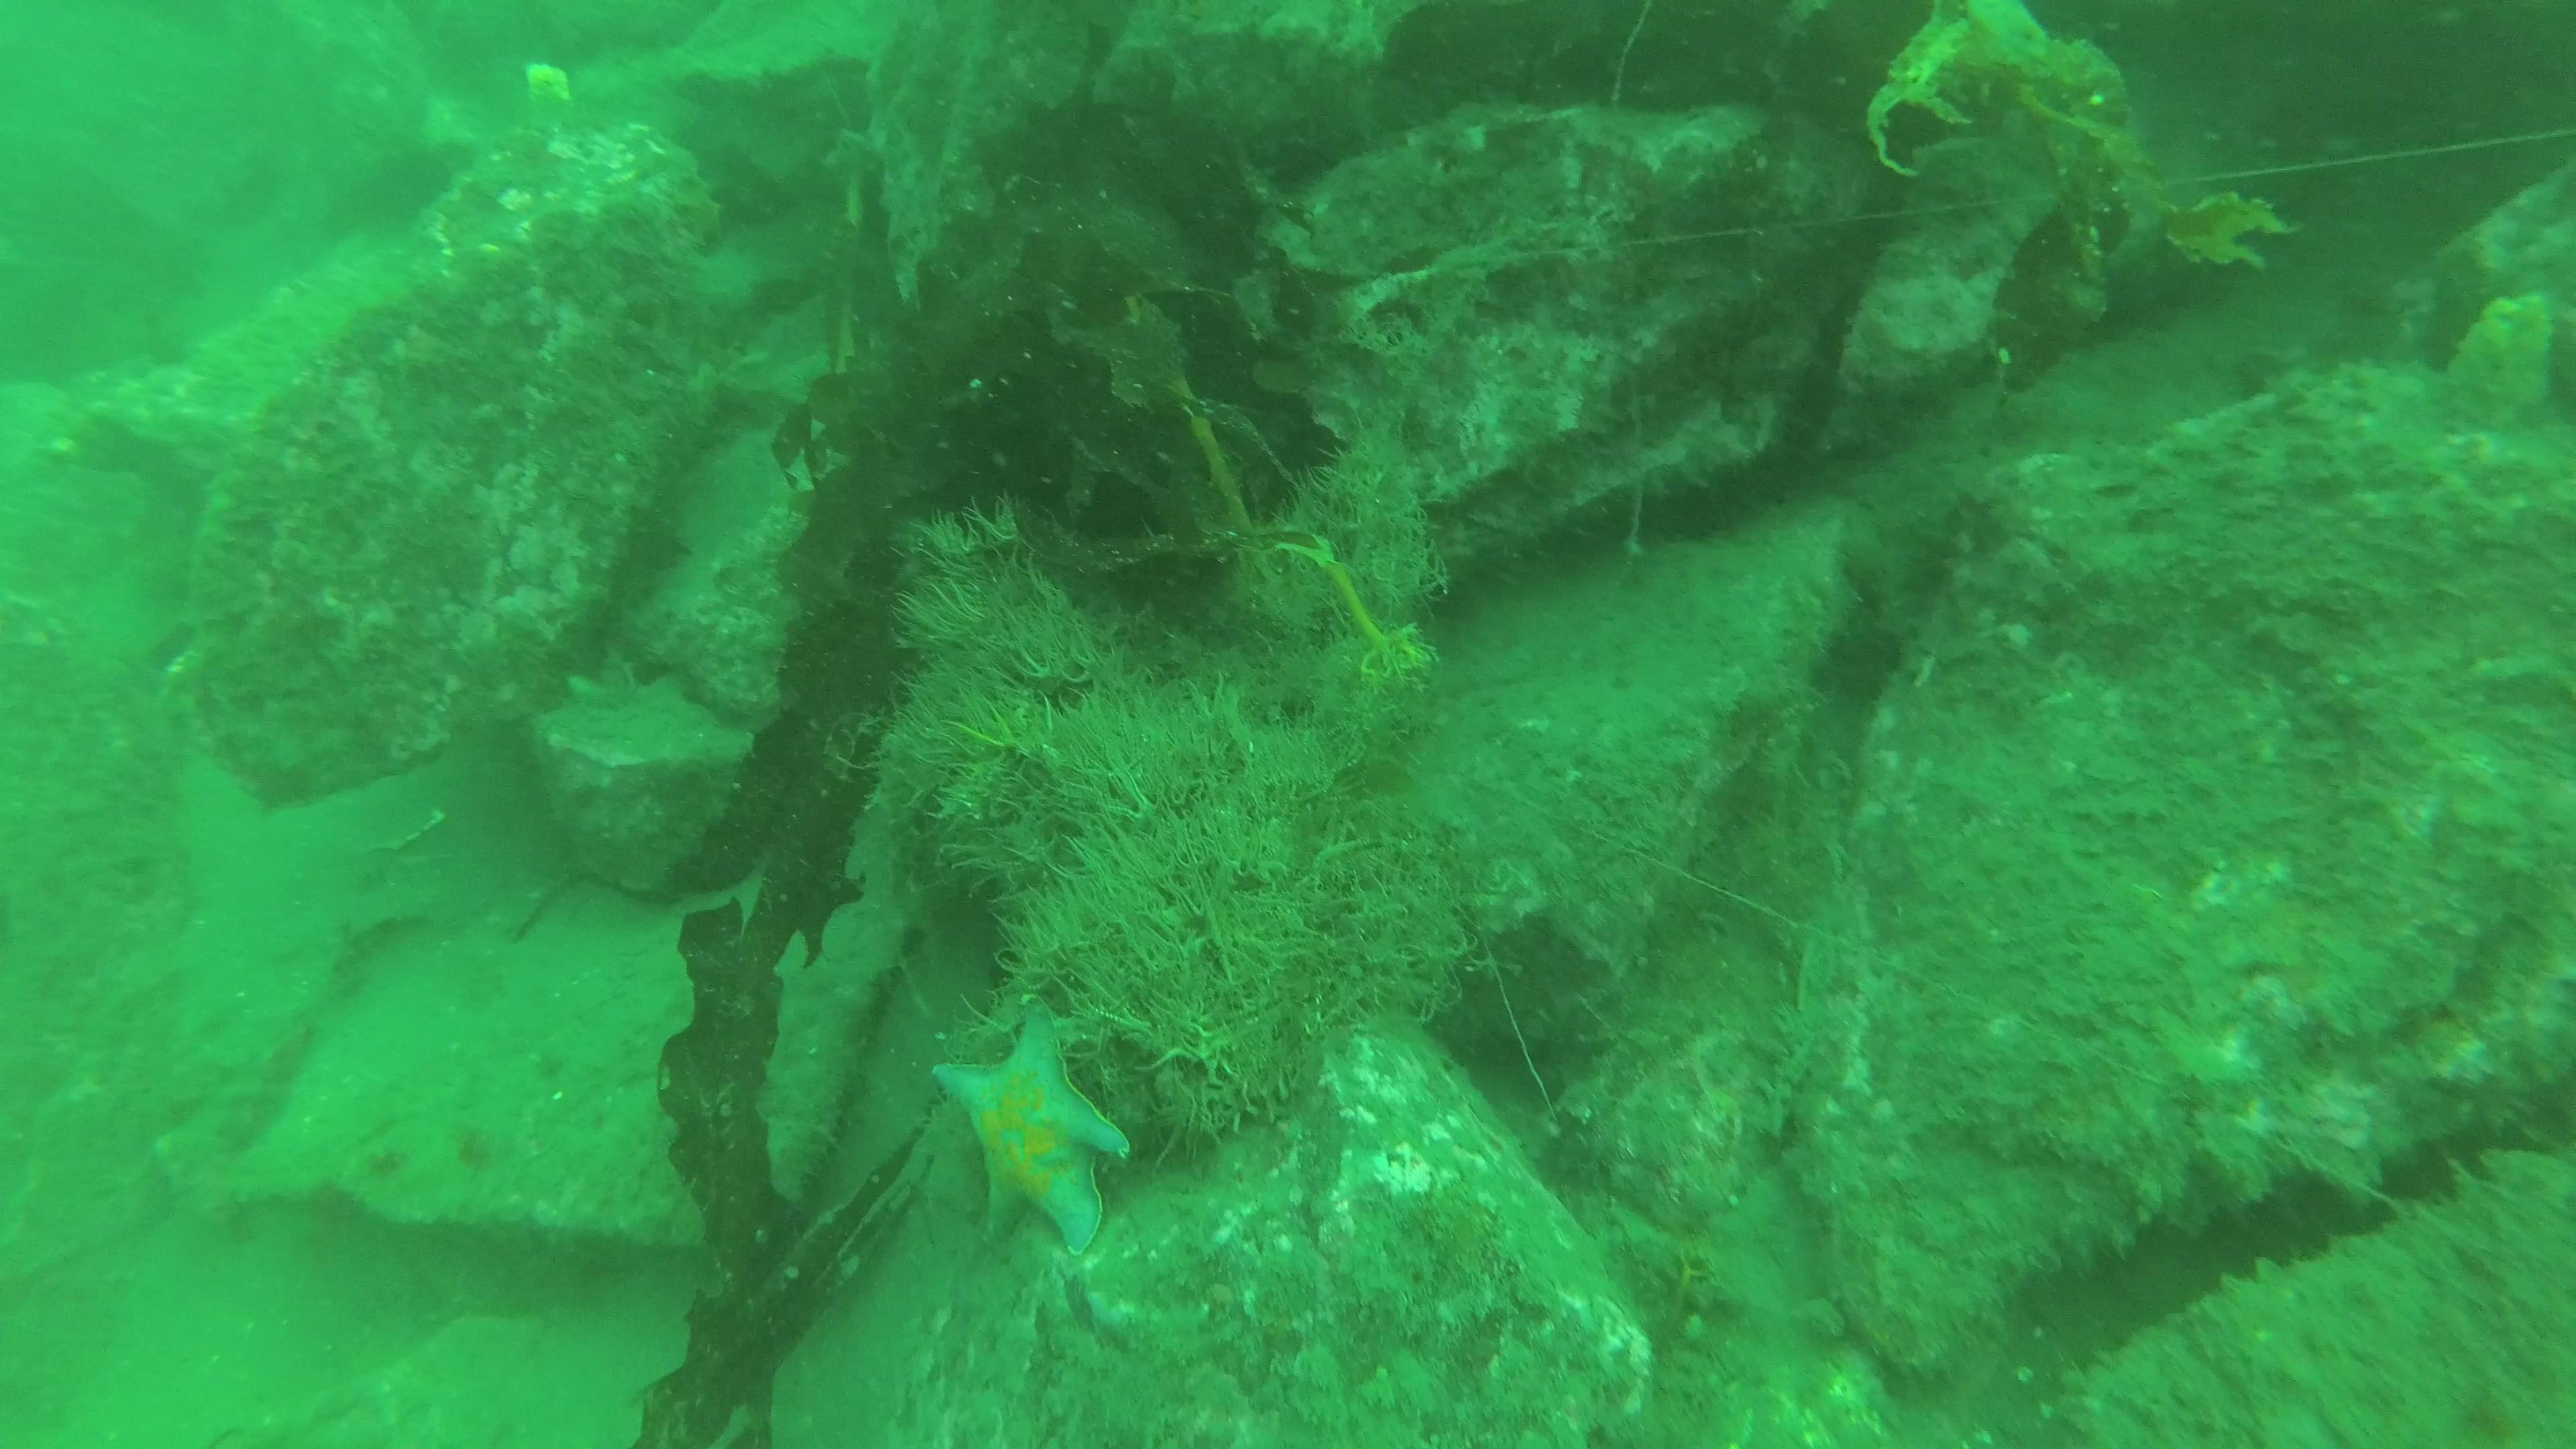starfish: (925, 1000, 1136, 1269)
